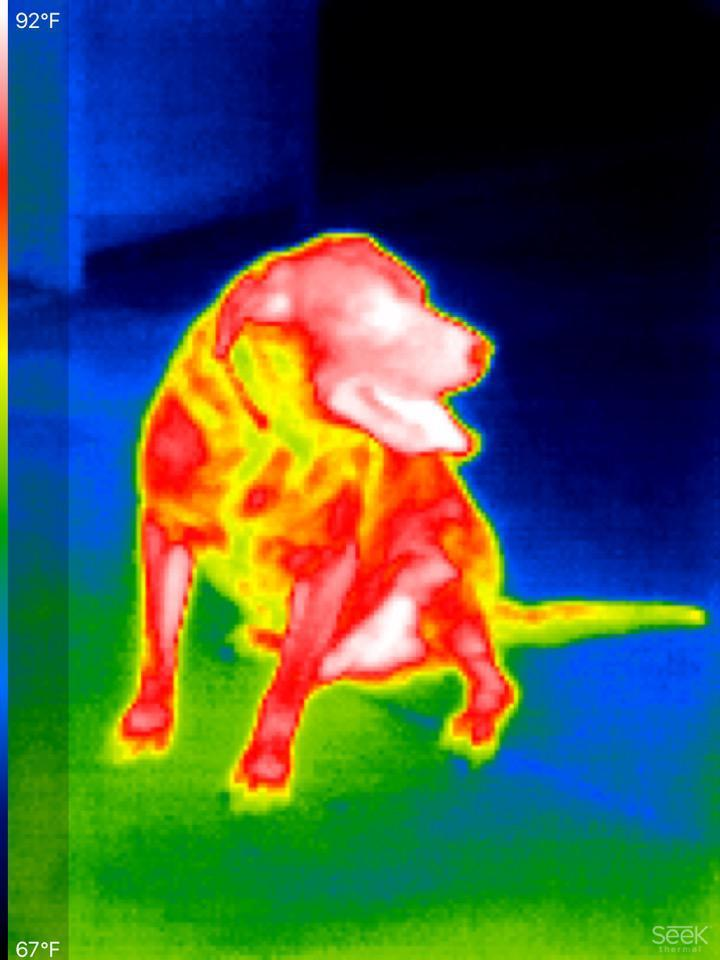dog: (103, 219, 711, 804)
